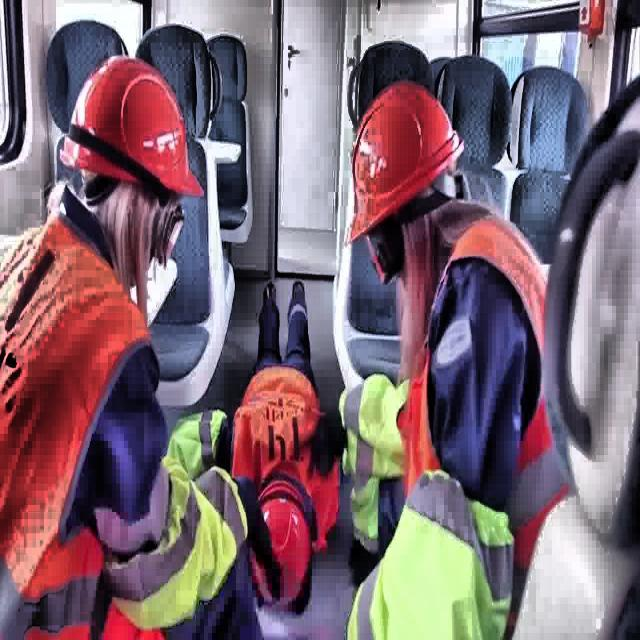safety_helmet: (61, 50, 205, 197), (348, 76, 462, 242), (256, 476, 310, 602)
safety_jacket: (402, 205, 574, 602), (2, 217, 153, 636), (346, 469, 514, 640), (104, 467, 248, 627), (233, 367, 339, 546), (342, 366, 406, 507), (168, 407, 225, 472)
